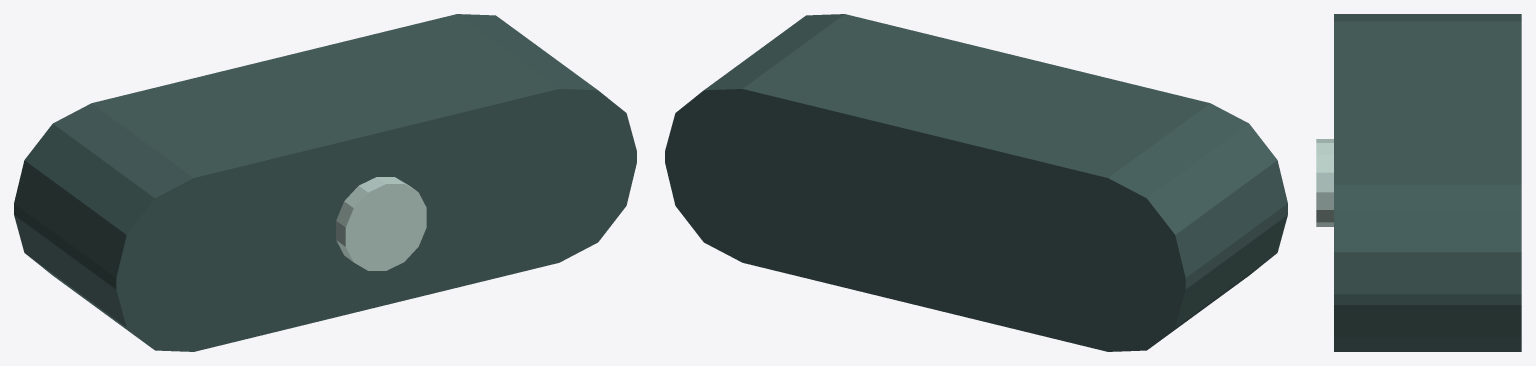
The model's file is Edge_ShutterH.gltf.
The picture shows the model from 3 angles, left to right: view 1: azimuth 30°, elevation 25°; view 2: azimuth 150°, elevation 25°; view 3: azimuth 270°, elevation 25°; orthographic projection. The views are drawn at different scales.
Visible parts, largest first — view 1: Edge_ShutterH_baked; view 2: Edge_ShutterH_baked; view 3: Edge_ShutterH_baked.
Boxes of the visible parts, x1,y1,x2,y2 form: Edge_ShutterH_baked: (14,14,636,351); Edge_ShutterH_baked: (665,14,1287,351); Edge_ShutterH_baked: (1316,14,1521,351).
Bounding box in the file's own units: 0.94 × 0.3 × 0.35.
